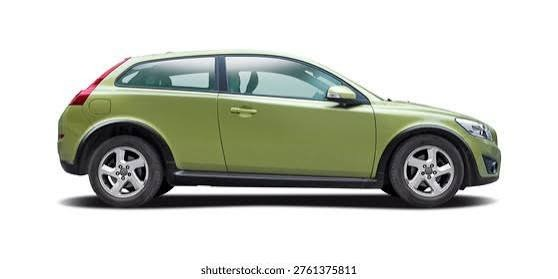car: (55, 48, 505, 208)
